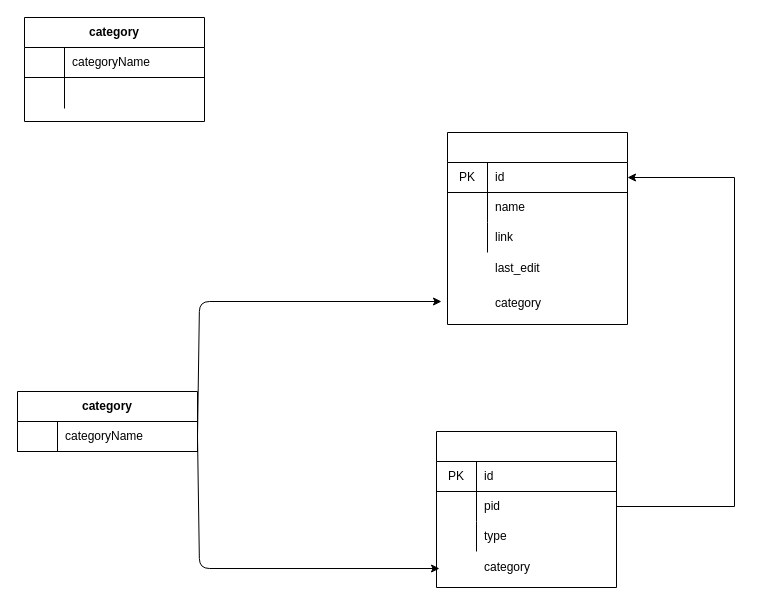
Image size: 760x605. Some labels were removed from this diagram. Here are the shapes that lost their labels. From the top down, the box of each, then its label:
(446, 132, 628, 324): projects
(436, 430, 616, 588): images
